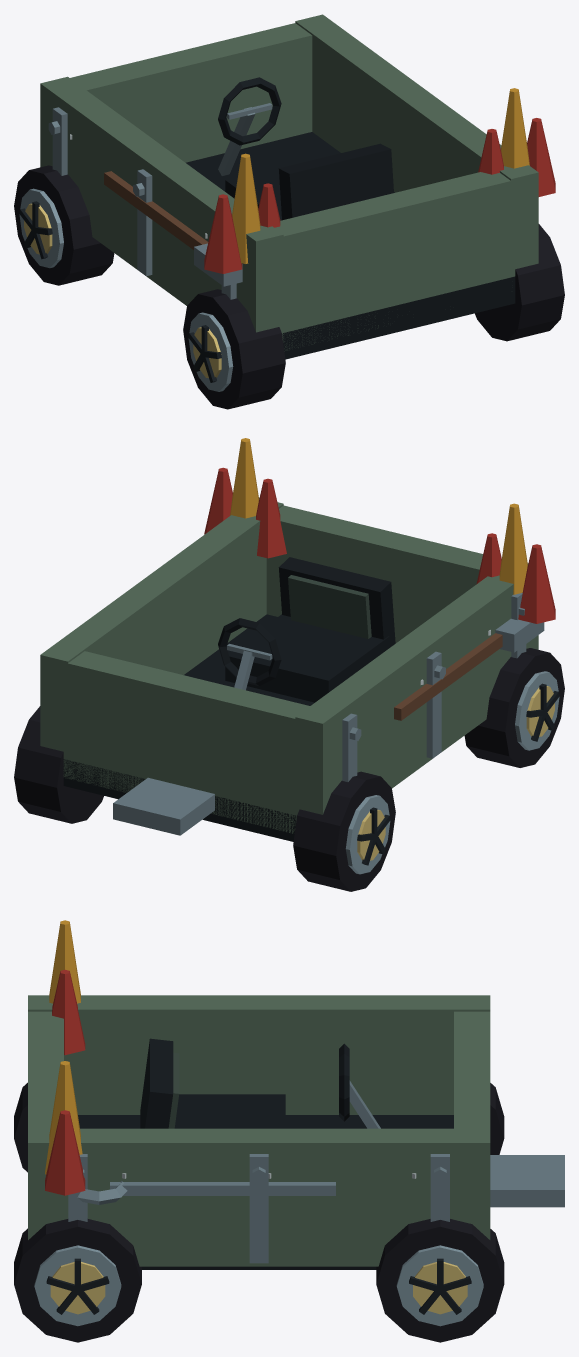
File: kart.glb
The picture shows the model from 3 angles, top to bottom: view 1: azimuth 30°, elevation 25°; view 2: azimuth 150°, elevation 25°; view 3: azimuth 270°, elevation 25°; orthographic projection. The views are drawn at different scales.
Parts seen in each view (by area): view 1: identity-minecart-minecart-riveted-open-bin, identity-minecart-driver-cockpit, wheel-rear-left, identity-minecart-motif-fire, wheel-front-left, wheel-rear-right, identity-minecart-motif-tools; view 2: identity-minecart-minecart-riveted-open-bin, identity-minecart-driver-cockpit, wheel-front-left, identity-minecart-motif-fire, wheel-rear-left, wheel-front-right, identity-minecart-motif-tools; view 3: identity-minecart-minecart-riveted-open-bin, wheel-front-right, wheel-rear-right, identity-minecart-driver-cockpit, identity-minecart-motif-fire, identity-minecart-motif-tools, wheel-rear-left, wheel-front-left.
Boxes of the visible parts, x1=… form: identity-minecart-minecart-riveted-open-bin: x1=40, y1=14, x2=538, y2=359; identity-minecart-driver-cockpit: x1=218, y1=77, x2=393, y2=220; wheel-rear-left: x1=183, y1=289, x2=285, y2=409; identity-minecart-motif-fire: x1=204, y1=88, x2=555, y2=273; wheel-front-left: x1=14, y1=165, x2=114, y2=285; wheel-rear-right: x1=475, y1=224, x2=564, y2=341; identity-minecart-motif-tools: x1=104, y1=171, x2=242, y2=286; identity-minecart-minecart-riveted-open-bin: x1=40, y1=497, x2=538, y2=841; identity-minecart-driver-cockpit: x1=218, y1=557, x2=395, y2=702; wheel-front-left: x1=293, y1=771, x2=395, y2=891; identity-minecart-motif-fire: x1=204, y1=438, x2=555, y2=623; wheel-rear-left: x1=464, y1=648, x2=564, y2=767; wheel-front-right: x1=14, y1=706, x2=103, y2=823; identity-minecart-motif-tools: x1=394, y1=618, x2=544, y2=720; identity-minecart-minecart-riveted-open-bin: x1=28, y1=995, x2=564, y2=1269; wheel-front-right: x1=376, y1=1219, x2=504, y2=1342; wheel-rear-right: x1=14, y1=1219, x2=141, y2=1342; identity-minecart-driver-cockpit: x1=140, y1=1038, x2=380, y2=1128; identity-minecart-motif-fire: x1=45, y1=920, x2=85, y2=1195; identity-minecart-motif-tools: x1=74, y1=1181, x2=335, y2=1204; wheel-rear-left: x1=14, y1=1082, x2=27, y2=1172; wheel-front-left: x1=490, y1=1083, x2=504, y2=1154.
Bounding box in the file's own units: 2.04 × 1.38 × 2.58.
